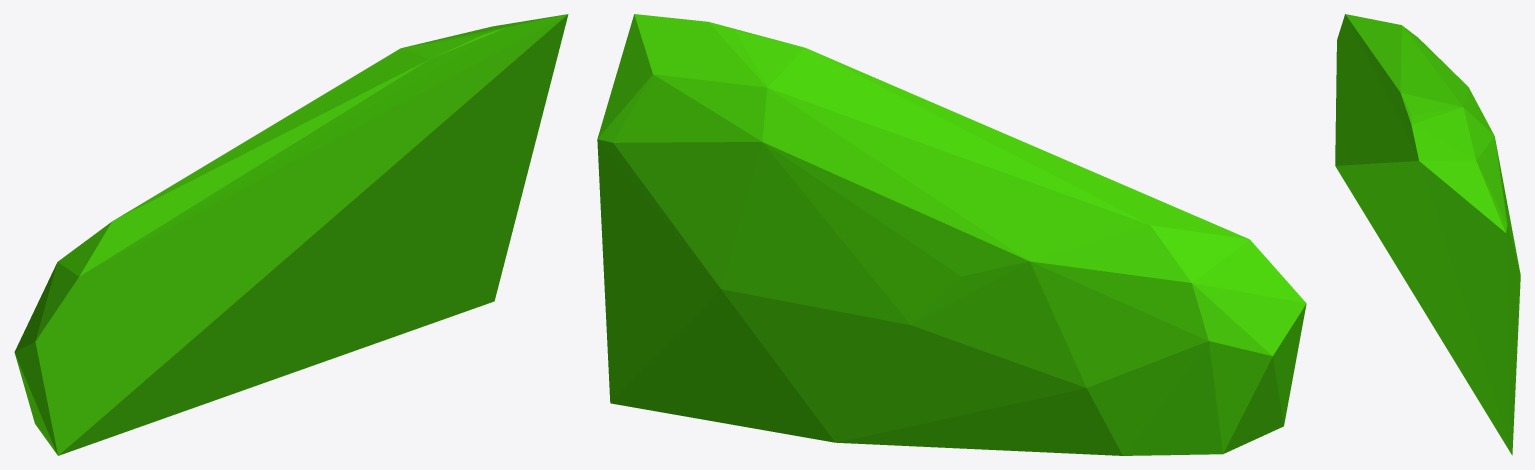
The model's file is shoulder-roll-housing_convex_piece_007.obj.
3 renders of one model, left to right at view 1: azimuth 30°, elevation 25°; view 2: azimuth 150°, elevation 25°; view 3: azimuth 270°, elevation 25°, orthographic. The views are drawn at different scales.
Bounding box in the file's own units: 0.084 × 0.0449 × 0.0241.
